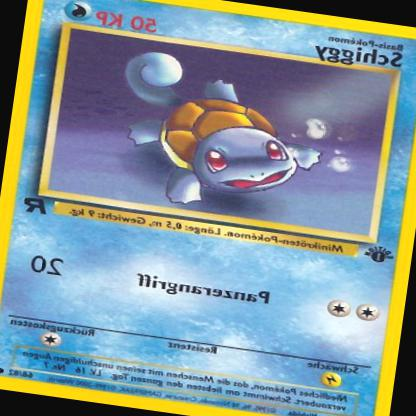Squirtle: (99, 45, 333, 223)
